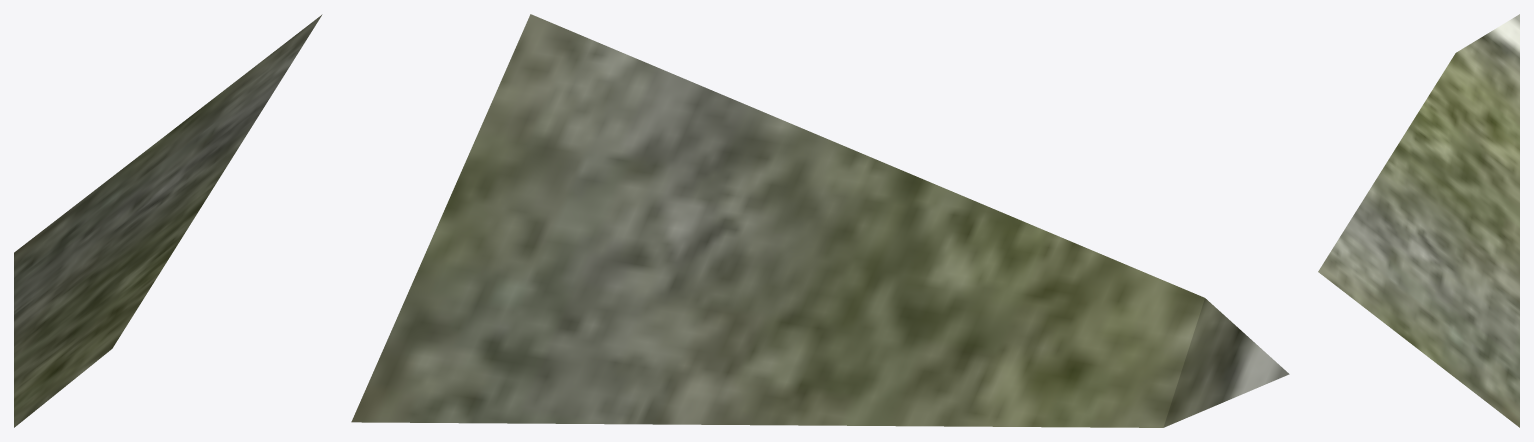
3 views of the same model, side by side, from view 1: azimuth 90°, elevation 25°; view 2: azimuth 150°, elevation 25°; view 3: azimuth 270°, elevation 25° (orthographic). The views are drawn at different scales.
Size of the model in its own units: 1.34 by 0.3788 by 0.4443.
1 material, 1 textured.
